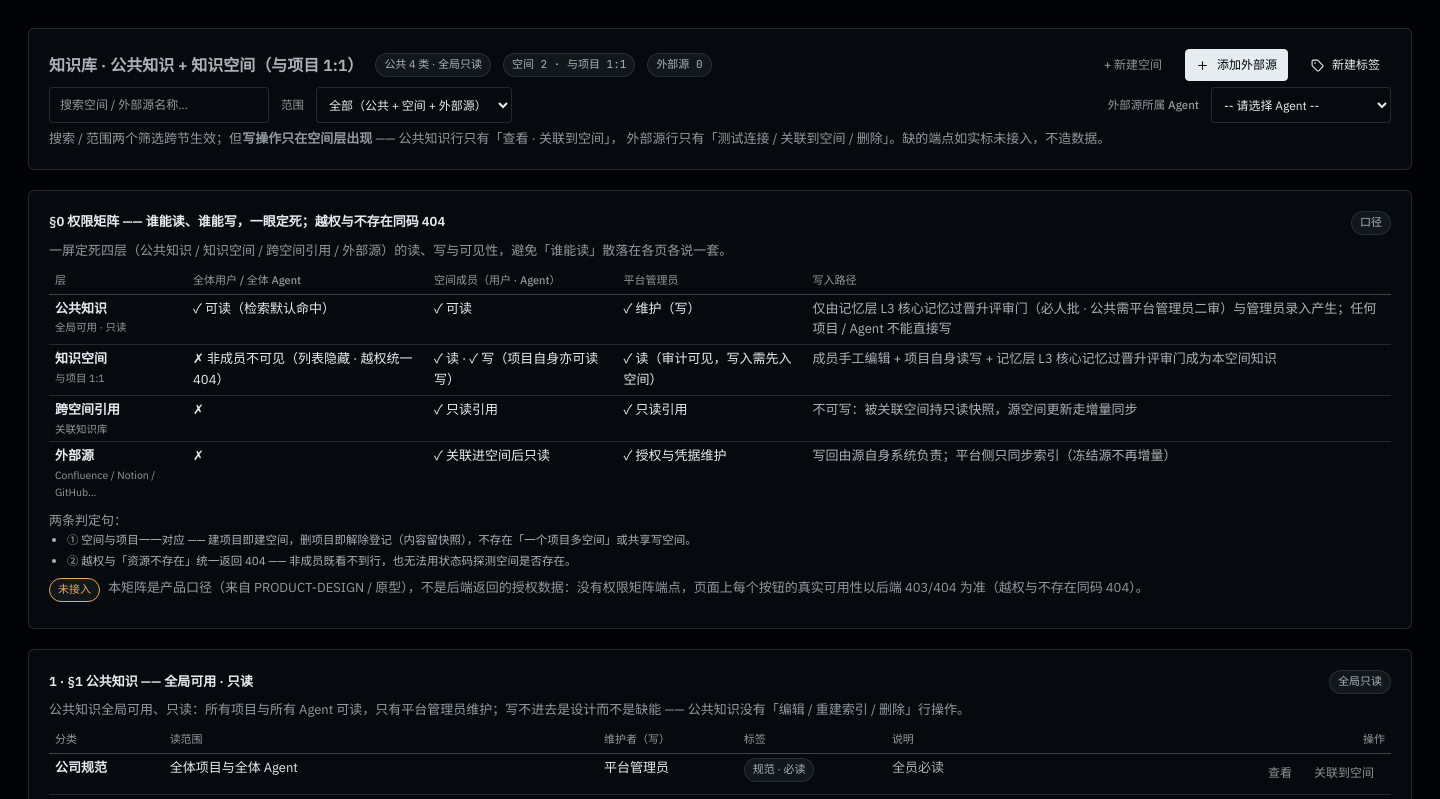
Test: §3 外部源：关联进空间后只读 · 凭据只写不读 · 关联空间未接入 › 测试连接失败 → 后端 detail 原样显示（不压成「测试失败」）
Select "审查 Agent" in the dropdown labelled "外部源所属 Agent" at {"x": 1301, "y": 105}, box [1211,87,1391,123]
(page scrolled)
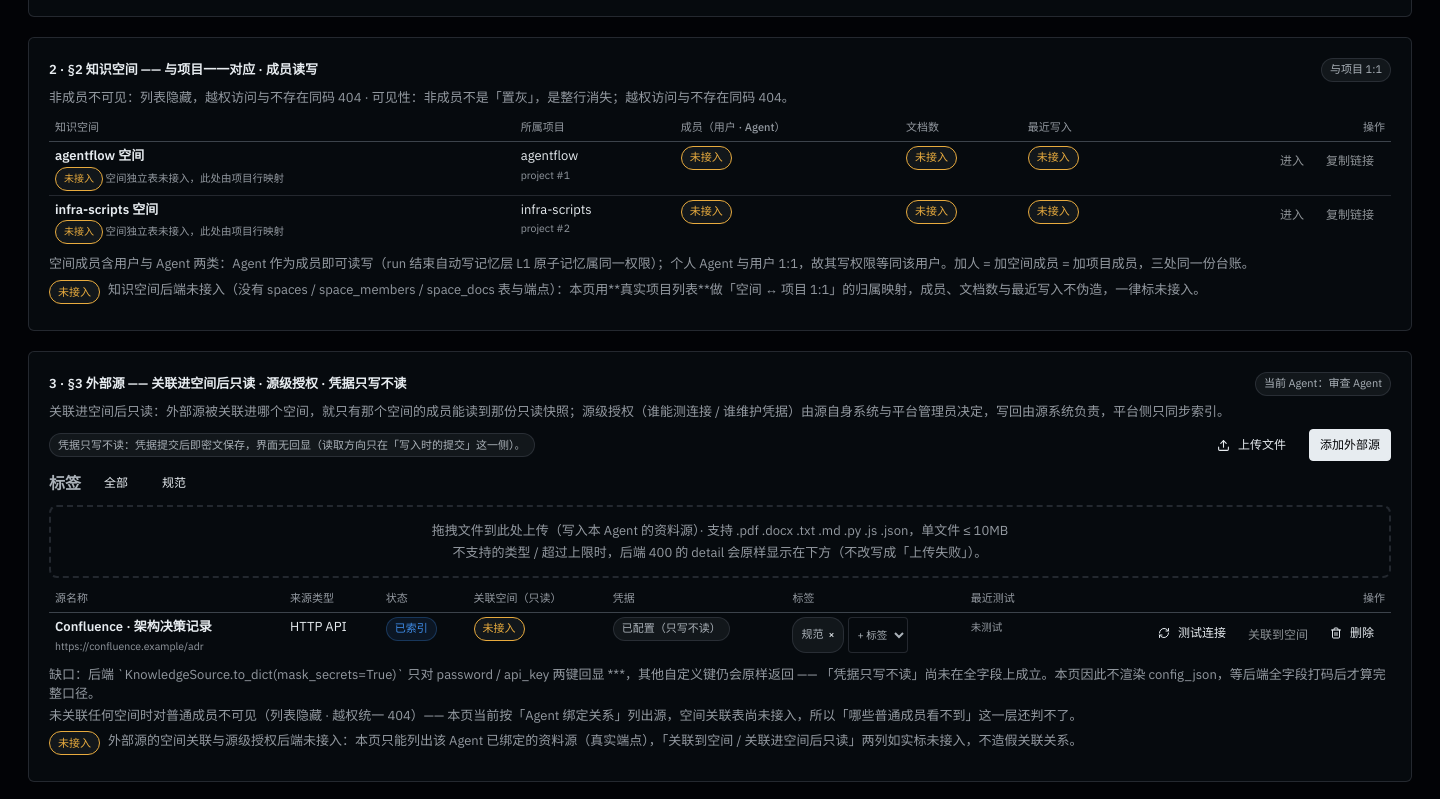
expect the text "Confluence · 架构决策记录" is shown: met, box [55,618,212,635]
Click the button "测试连接".
click(1192, 633)  # box [1147,617,1237,649]
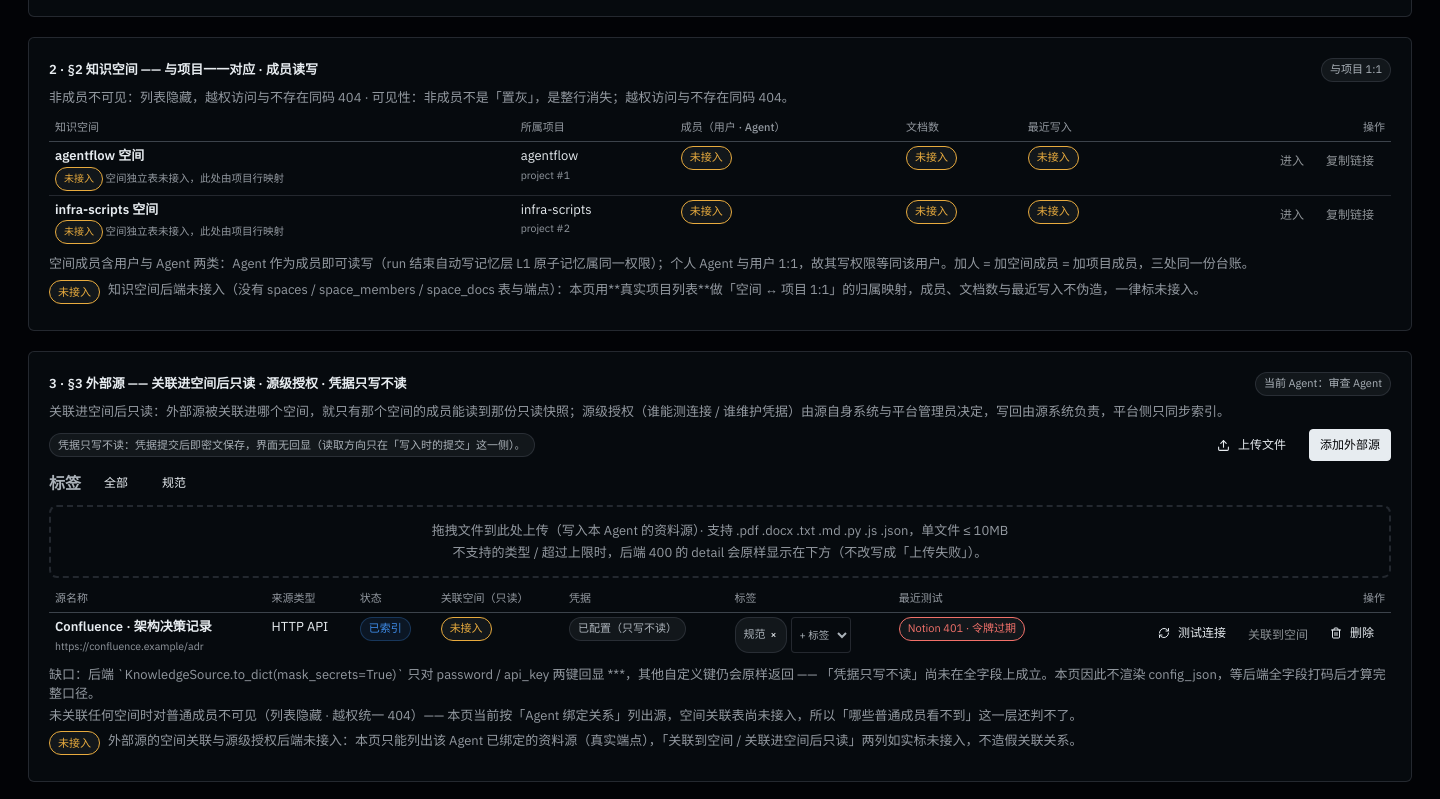
expect the text "Notion 401 · 令牌过期" is shown: met, box [899,617,1025,641]
